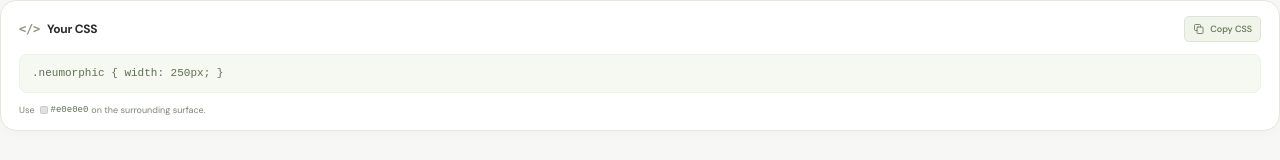
Test: CodeOutput › copies exactly the provided CSS and resets visible feedback when output changes
Later steps or results of the test are not shown.
Step 1. Click the button "Copy CSS" → point(1223, 29), box [1184,16,1261,42]
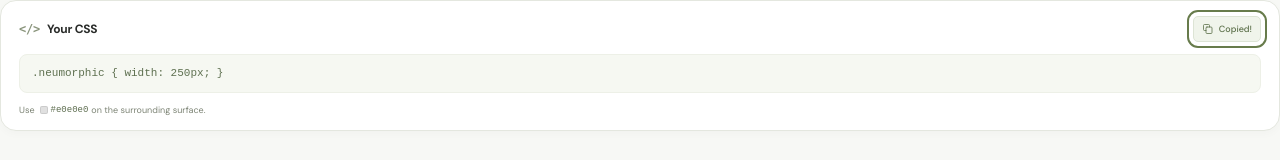
Expected: the button "Copied!" is shown, [1193,16,1261,42]
